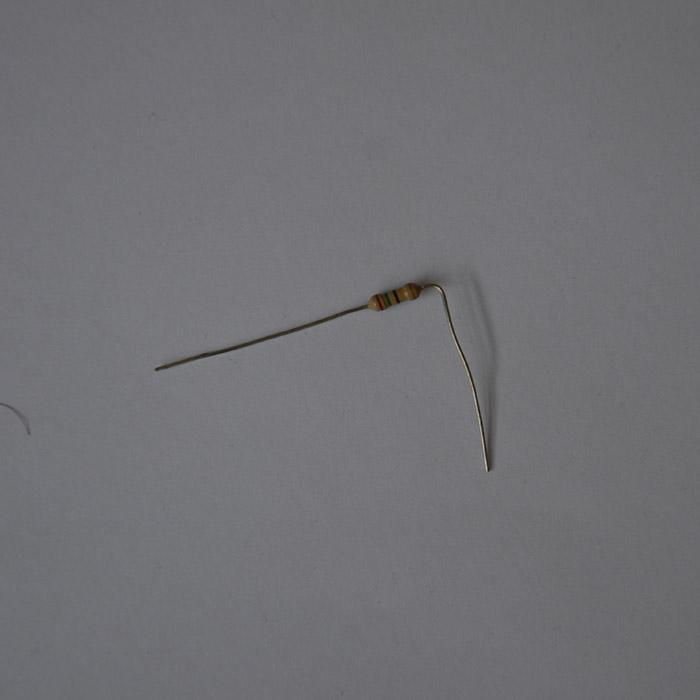resistor: (368, 283, 422, 312)
